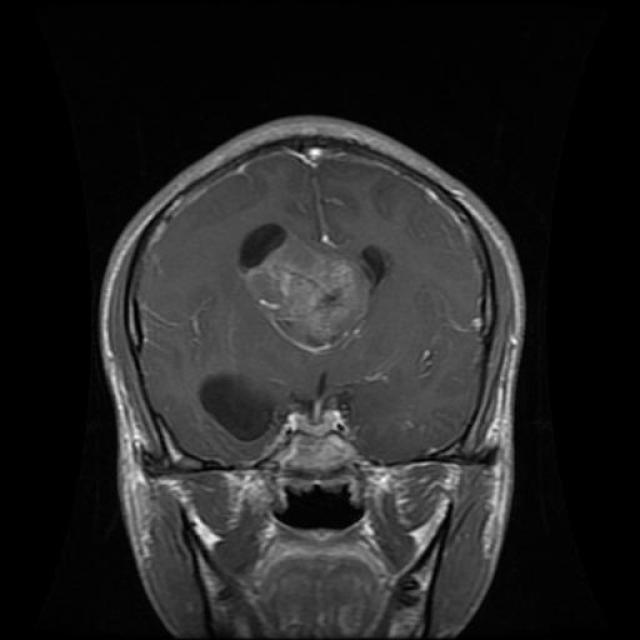glioma: (235, 222, 389, 356)
